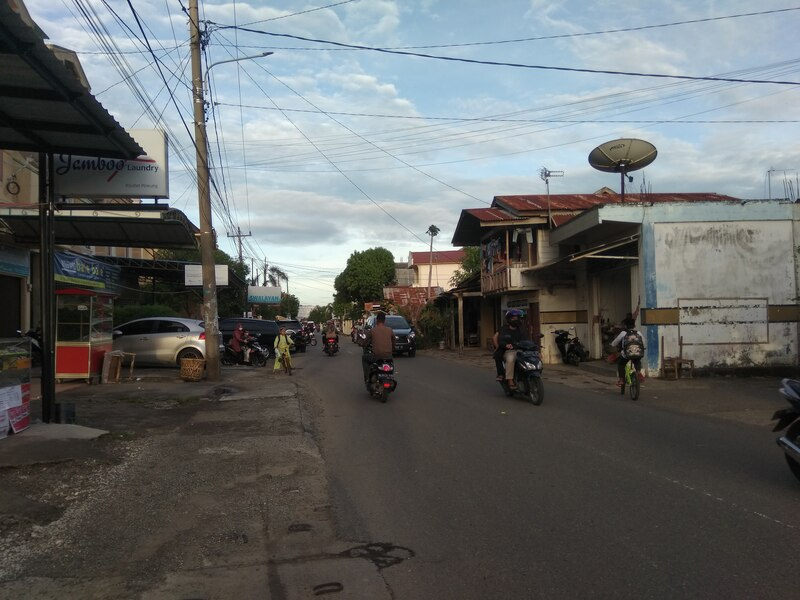bike: (614, 345, 654, 404), (276, 346, 299, 379)
car: (360, 313, 423, 359)
motorcycle: (490, 330, 548, 410), (770, 371, 800, 479), (356, 338, 402, 404), (222, 335, 271, 371), (321, 332, 343, 355)
